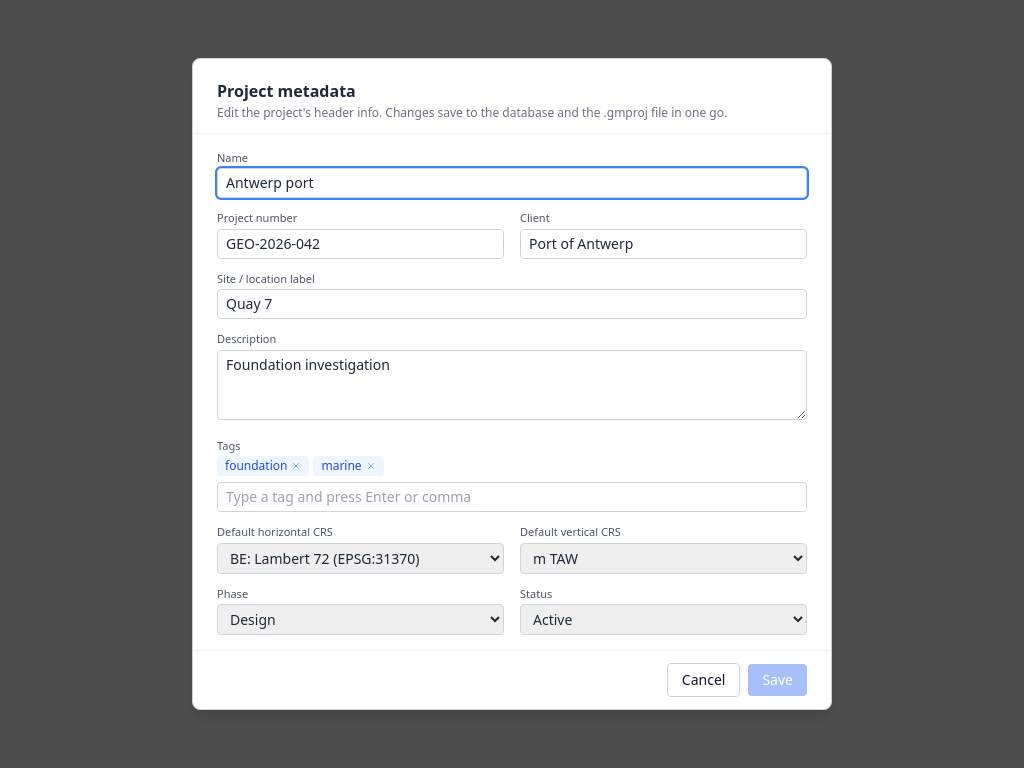
it: ProjectMetadataDialog › Save enables once any text field gets a value
This screenshot has width=1024, height=768.
Replace the text in the text box labelled "Description" with "updated": {"x": 512, "y": 385} [217, 350, 807, 420]
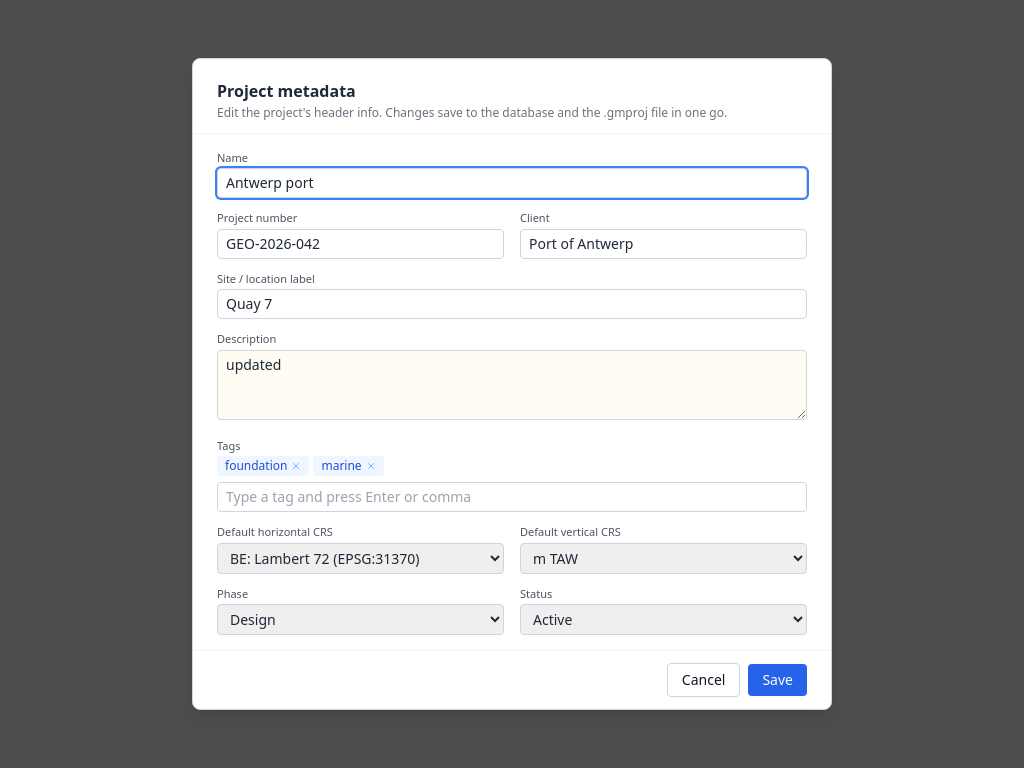
Now the button "Save" is enabled, box [748, 664, 807, 696]
